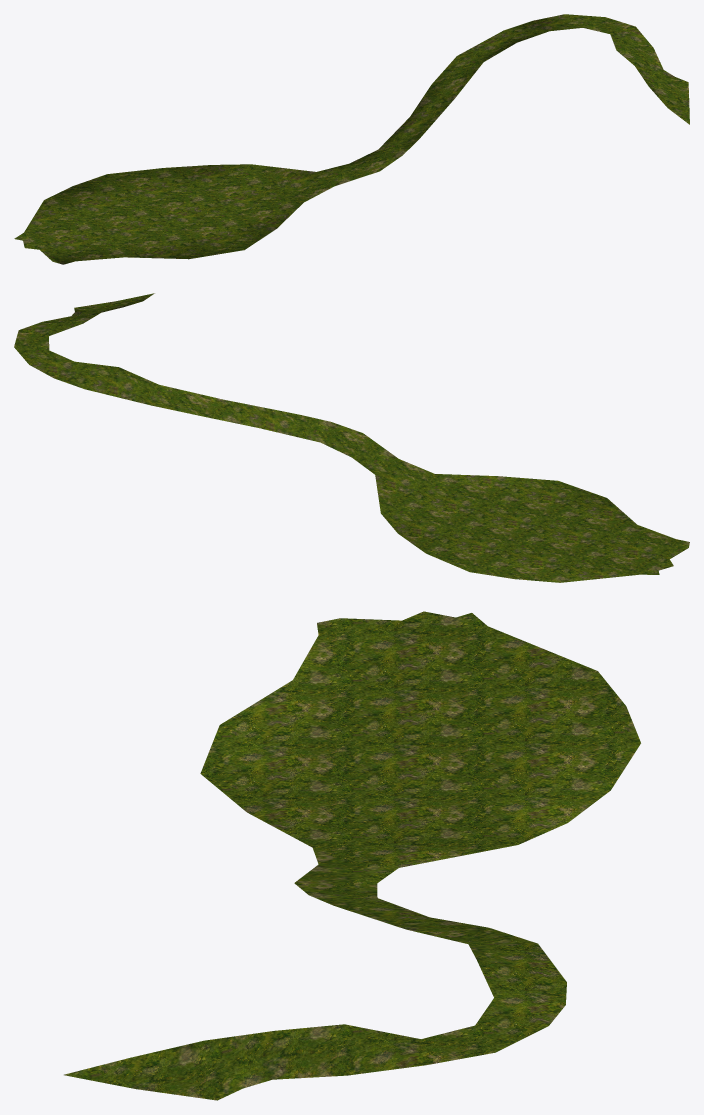
File: OVERHILL_A_01_GROUND_CRUMBLE01.fbx
The picture shows the model from 3 angles, top to bottom: view 1: azimuth 30°, elevation 25°; view 2: azimuth 150°, elevation 25°; view 3: azimuth 270°, elevation 25°; orthographic projection. The views are drawn at different scales.
Parts seen in each view (by area): view 1: OVERHILL_A_01_GROUND_CRUMBLE01; view 2: OVERHILL_A_01_GROUND_CRUMBLE01; view 3: OVERHILL_A_01_GROUND_CRUMBLE01.
Boxes of the visible parts, left/top/right/bottom form: OVERHILL_A_01_GROUND_CRUMBLE01: left=14, top=14, right=689, bottom=264; OVERHILL_A_01_GROUND_CRUMBLE01: left=14, top=293, right=689, bottom=582; OVERHILL_A_01_GROUND_CRUMBLE01: left=64, top=611, right=640, bottom=1100.
Bounding box in the file's own units: 216070 × 25056 × 88394.
1 material, 1 textured.
